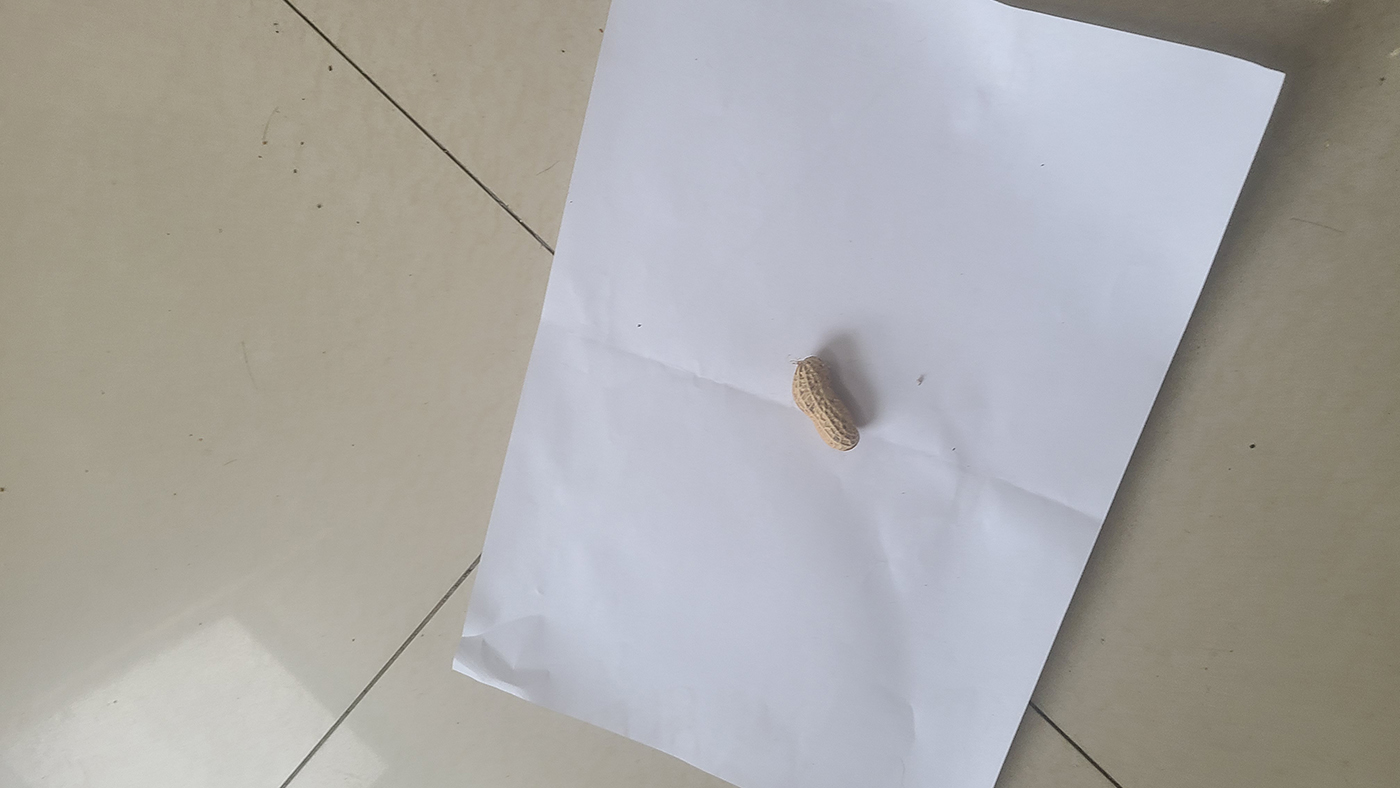h: (791, 355, 861, 451)
